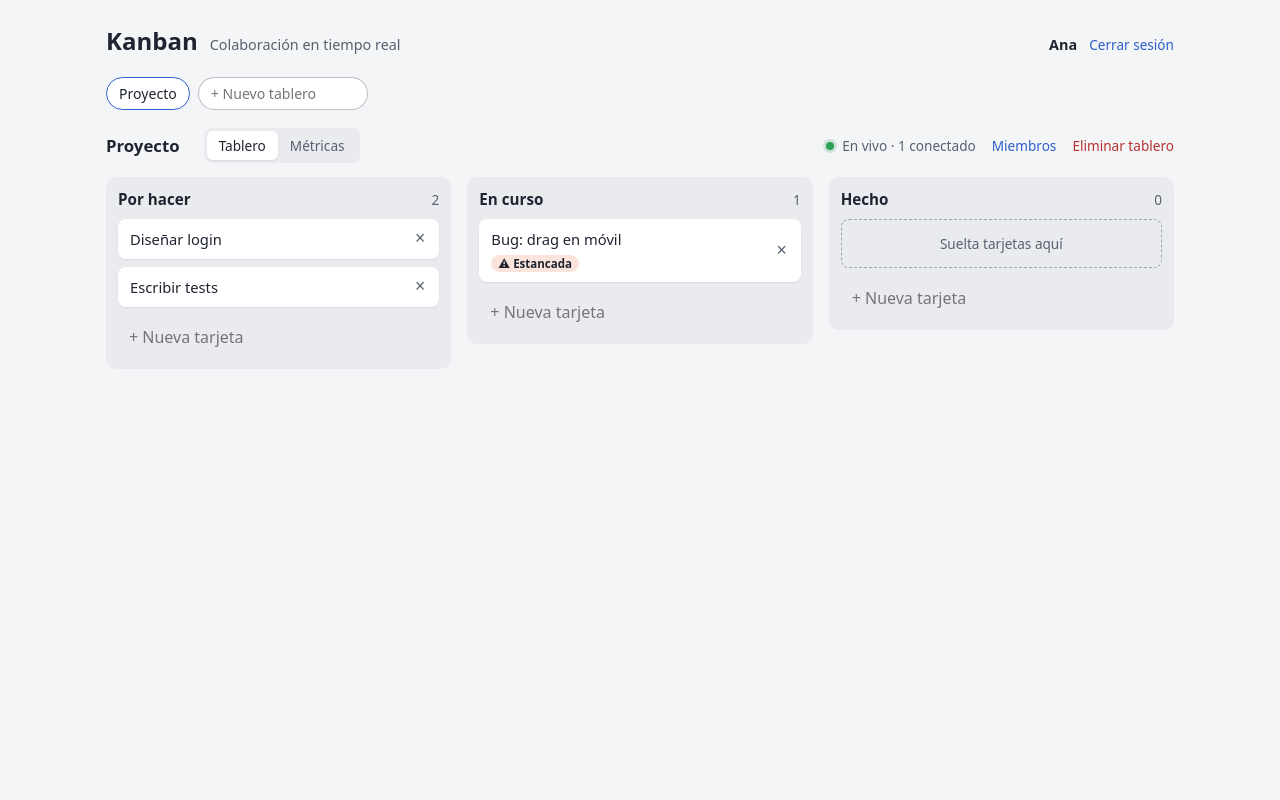
Scenario: tablero › si el servidor rechaza el borrado, la tarjeta vuelve a su lugar y se avisa
What coordinates should you click on to do the following:
click the button named "Eliminar Diseñar login"
I would click on:
 (420, 239)
Its box is 413,230 -> 427,248.
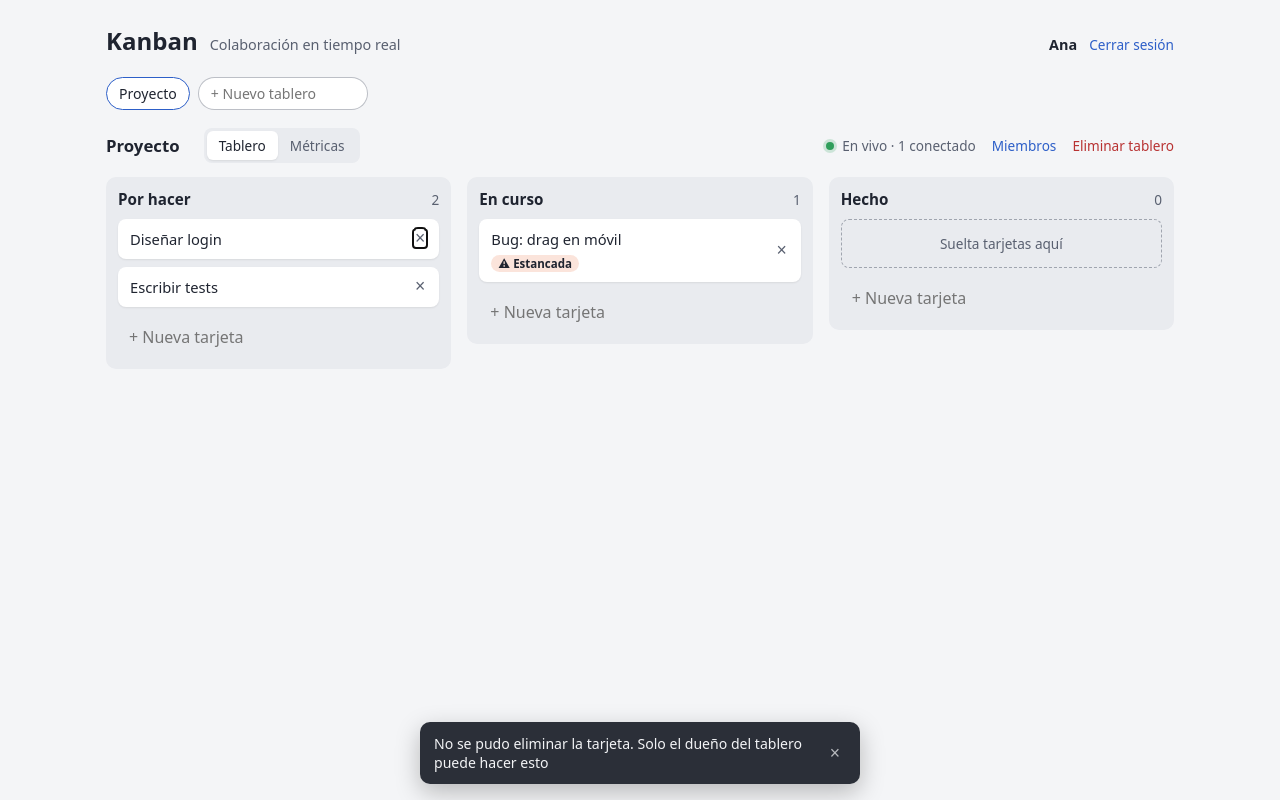
Expected: the text "Diseñar login" is shown, 130,229 -> 222,249
Now the text "No se pudo eliminar la tarjeta. Solo el dueño" is shown, box 434,734 -> 802,772
